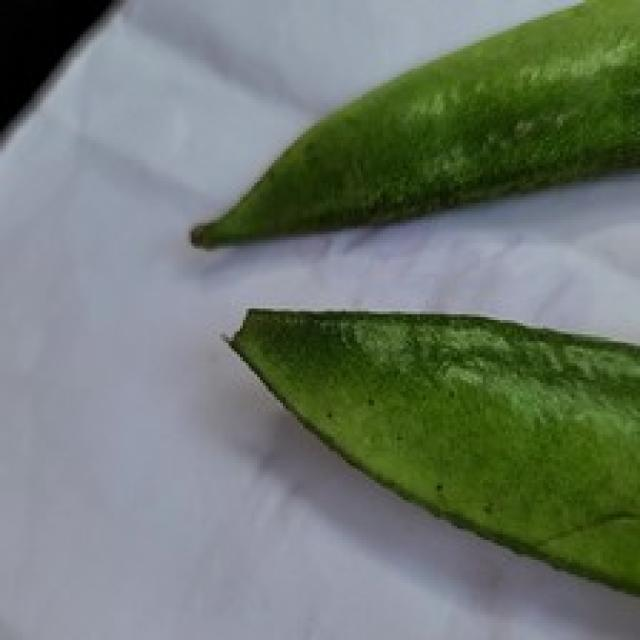Bean: (220, 303, 637, 626), (186, 0, 637, 249)
